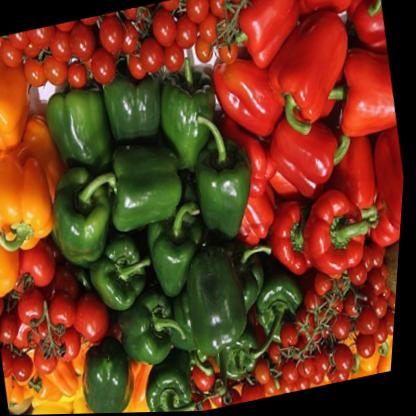bell_pepper: (251, 7, 364, 147), (178, 237, 272, 399), (85, 137, 195, 235), (260, 101, 365, 199), (44, 159, 128, 279), (297, 177, 387, 283), (0, 140, 70, 262), (0, 46, 54, 167)
